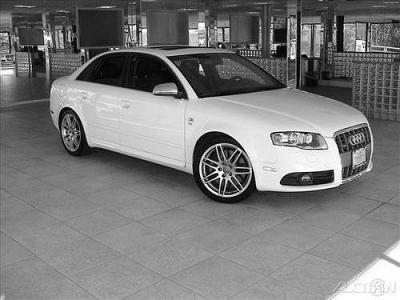car: (52, 47, 375, 205)
